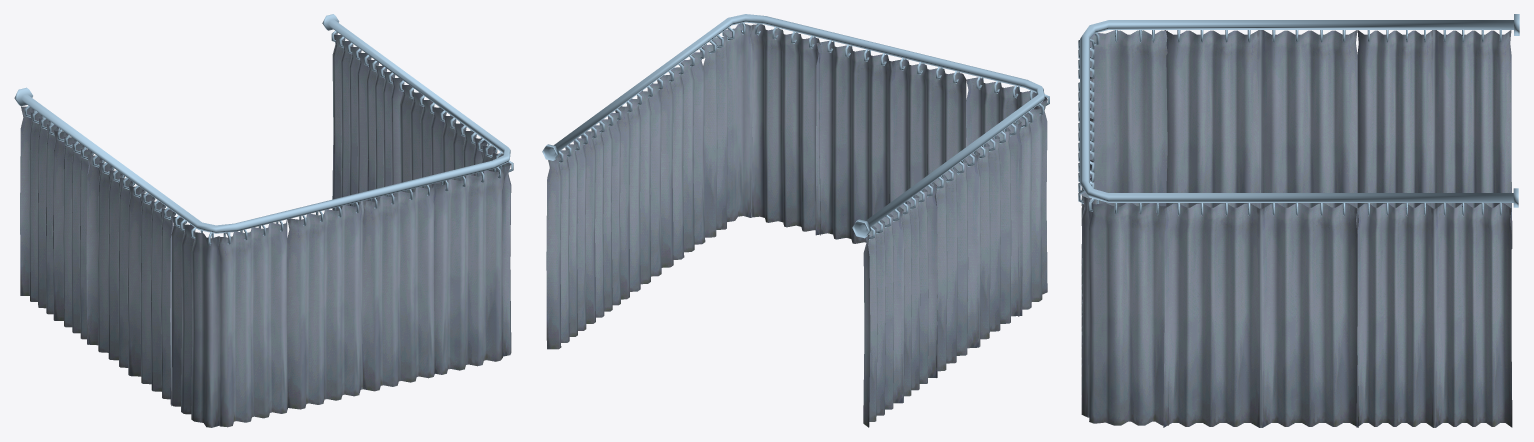
The model's file is Hospital_CurtainDivider.fbx.
The picture shows the model from 3 angles, left to right: view 1: azimuth 30°, elevation 25°; view 2: azimuth 150°, elevation 25°; view 3: azimuth 270°, elevation 25°; orthographic projection. The views are drawn at different scales.
Visible parts, largest first — view 1: Curtain.005, Curtain.006, Curtain.003, Curtain.004, Curtain.001, Curtain, CurtainRod, Curtain.002; view 2: Curtain.004, Curtain.005, Curtain.003, Curtain.002, Curtain, Curtain.001, Curtain.006, CurtainRod; view 3: Curtain.002, Curtain, Curtain.003, Curtain.001, Curtain.004, Curtain.006, CurtainRod, Curtain.005.
Part boxes in pixels (x1,y1,x2,y2): Curtain.005: [287, 184, 434, 409]; Curtain.006: [170, 215, 287, 427]; Curtain.003: [86, 155, 175, 405]; Curtain.004: [431, 138, 513, 374]; Curtain.001: [20, 105, 93, 344]; Curtain: [331, 30, 402, 210]; CurtainRod: [14, 14, 510, 233]; Curtain.002: [399, 80, 487, 192]; Curtain.004: [702, 22, 820, 237]; Curtain.005: [815, 40, 966, 243]; Curtain.003: [931, 123, 1022, 377]; Curtain.002: [618, 47, 705, 299]; Curtain: [546, 109, 621, 349]; Curtain.001: [863, 185, 937, 427]; Curtain.006: [966, 76, 1049, 316]; CurtainRod: [542, 14, 1044, 238]; Curtain.002: [1163, 202, 1358, 427]; Curtain: [1356, 202, 1512, 427]; Curtain.003: [1164, 29, 1357, 233]; Curtain.001: [1357, 29, 1512, 248]; Curtain.004: [1078, 159, 1168, 425]; Curtain.006: [1078, 29, 1167, 284]; CurtainRod: [1080, 14, 1519, 207]; Curtain.005: [1078, 78, 1094, 364].
Bounding box in the file's own units: 275 × 166 × 283.
